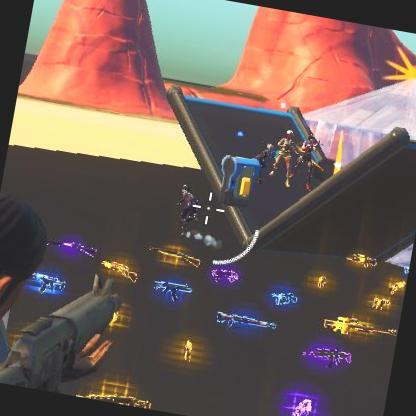person: (271, 124, 300, 183), (168, 184, 198, 236), (254, 138, 276, 180), (298, 139, 318, 184)
